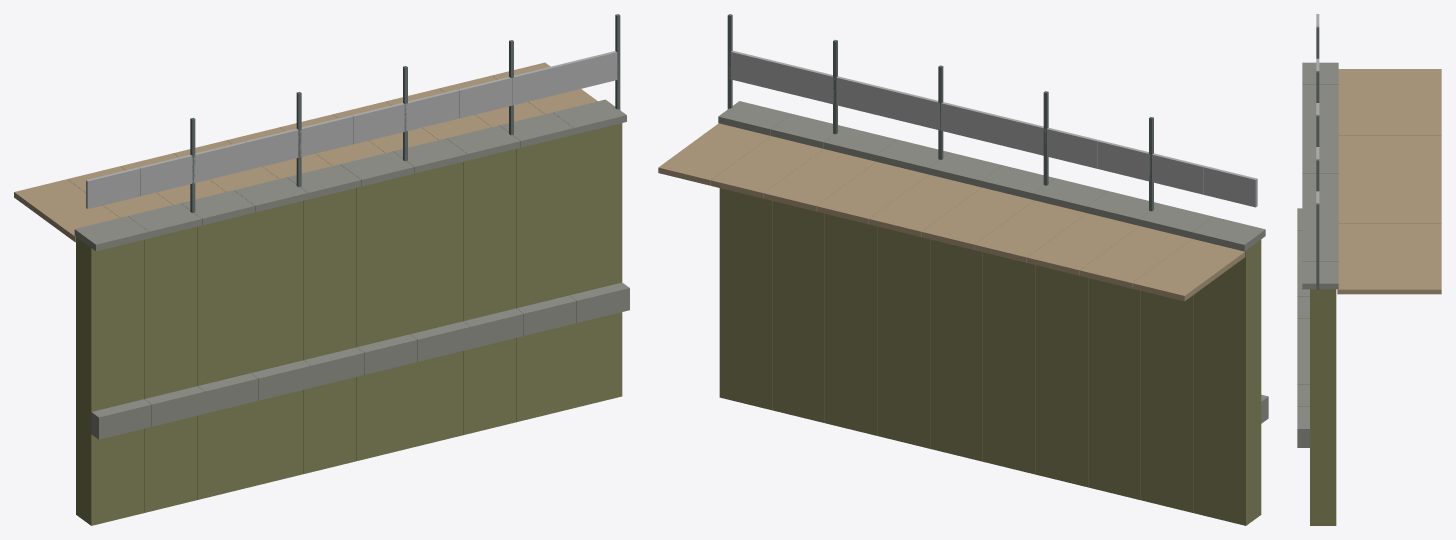
Rendered from SM_MuroRampa_v0_Alto_e0_Sano_LOD1.fbx.
The picture shows the model from 3 angles, left to right: view 1: azimuth 30°, elevation 25°; view 2: azimuth 150°, elevation 25°; view 3: azimuth 270°, elevation 25°; orthographic projection. The views are drawn at different scales.
Visible parts, largest first — view 1: SM_muro_rampa_v0_LOD1; view 2: SM_muro_rampa_v0_LOD1; view 3: SM_muro_rampa_v0_LOD1.
Part boxes in pixels (x1,y1,x2,y2): SM_muro_rampa_v0_LOD1: (14, 14, 629, 525); SM_muro_rampa_v0_LOD1: (658, 14, 1268, 525); SM_muro_rampa_v0_LOD1: (1297, 14, 1441, 525).
Size of the model in its own units: 10.03 by 6.8 by 2.77.
